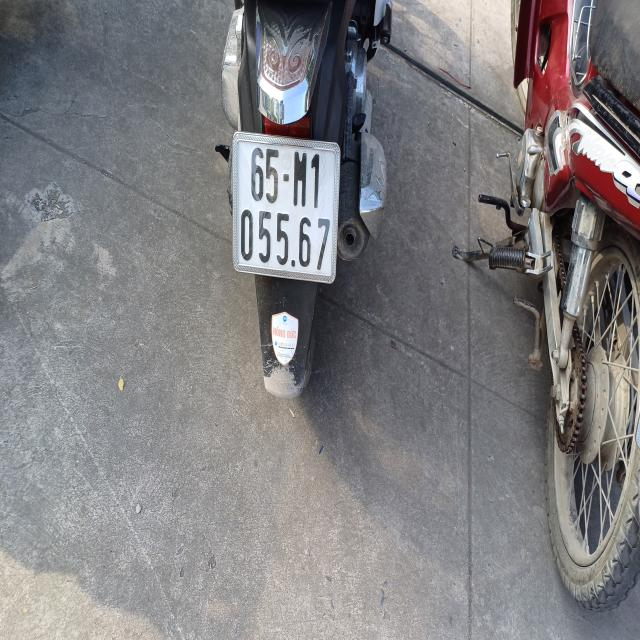0: (240, 206, 254, 259)
1: (311, 153, 319, 208)
5: (264, 149, 280, 204), (258, 208, 272, 265), (276, 210, 290, 267)
6: (250, 147, 264, 200), (298, 214, 311, 271)
7: (316, 215, 330, 274)
M: (294, 151, 307, 208)
